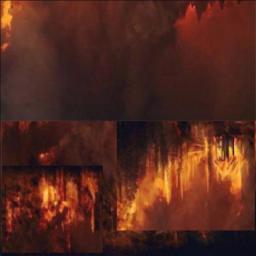Heavy smoke: (0, 0, 255, 117)
Large fire: (119, 123, 255, 233), (1, 166, 107, 233)
